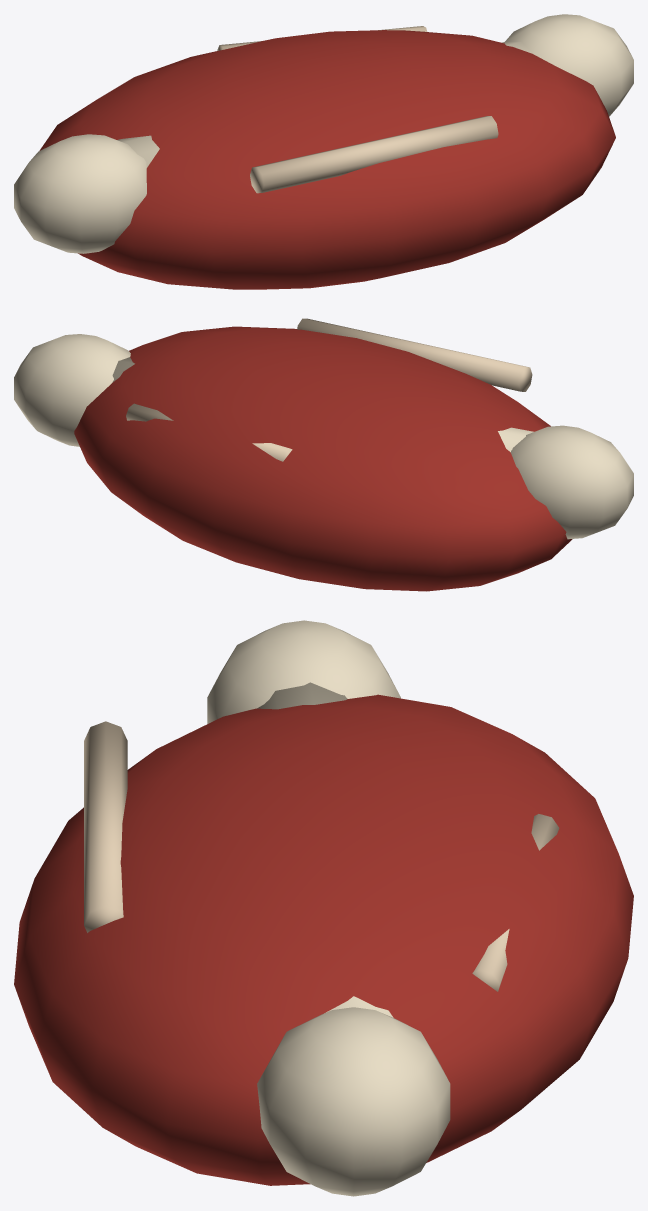
Rendered from venison_cut_v1.glb.
3 renders of one model, top to bottom at view 1: azimuth 30°, elevation 25°; view 2: azimuth 150°, elevation 25°; view 3: azimuth 270°, elevation 25°, orthographic. The views are drawn at different scales.
Parts seen in each view (by area): view 1: VenisonCut, BoneEndL, BoneEndR, FatMarblingA, Bone; view 2: VenisonCut, BoneEndL, BoneEndR, FatMarblingA, FatMarblingB, Bone; view 3: VenisonCut, BoneEndR, BoneEndL, FatMarblingA, FatMarblingB, Bone.
Boxes of the visible parts, x1,y1,x2,y2 form: VenisonCut: (39, 30, 615, 289); BoneEndL: (14, 134, 146, 253); BoneEndR: (505, 14, 633, 116); FatMarblingA: (250, 116, 498, 193); Bone: (117, 41, 532, 167); VenisonCut: (74, 326, 572, 591); BoneEndL: (511, 425, 633, 539); BoneEndR: (14, 334, 130, 446); FatMarblingA: (297, 318, 532, 391); FatMarblingB: (126, 403, 292, 461); Bone: (112, 357, 533, 452); VenisonCut: (14, 694, 633, 1185); BoneEndR: (257, 1007, 450, 1196); BoneEndL: (207, 620, 400, 723); FatMarblingA: (84, 721, 127, 932); FatMarblingB: (472, 814, 559, 991); Bone: (257, 682, 393, 1017).
Size of the model in its own units: 1.11 by 0.32 by 0.6253.
